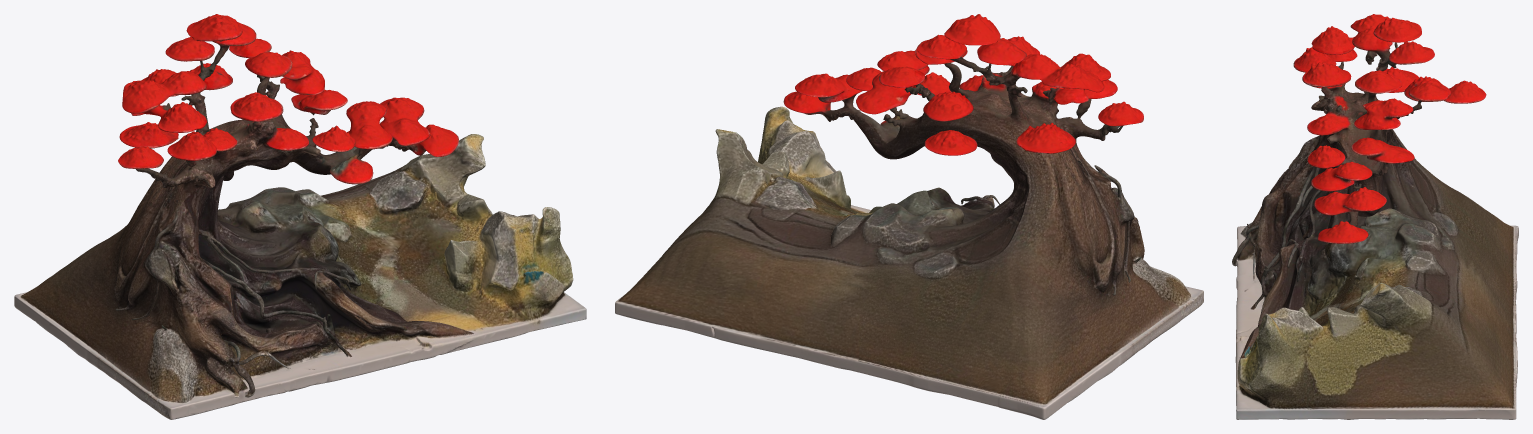
Rendered from bonsai8-v4.glb.
3 views of the same model, side by side, from view 1: azimuth 30°, elevation 25°; view 2: azimuth 150°, elevation 25°; view 3: azimuth 270°, elevation 25° (orthographic). The views are drawn at different scales.
Visible parts, largest first — view 1: tripo_node_5a94128e-5fe7-4ac0-9446-6047c0ddea34; view 2: tripo_node_5a94128e-5fe7-4ac0-9446-6047c0ddea34; view 3: tripo_node_5a94128e-5fe7-4ac0-9446-6047c0ddea34.
Boxes of the visible parts, x1=… form: tripo_node_5a94128e-5fe7-4ac0-9446-6047c0ddea34: x1=14, y1=14, x2=586, y2=419; tripo_node_5a94128e-5fe7-4ac0-9446-6047c0ddea34: x1=615, y1=14, x2=1203, y2=419; tripo_node_5a94128e-5fe7-4ac0-9446-6047c0ddea34: x1=1232, y1=14, x2=1518, y2=419.
Size of the model in its own units: 0.9956 by 0.7037 by 0.6554.
Materials: 1 (1 with a texture image).
